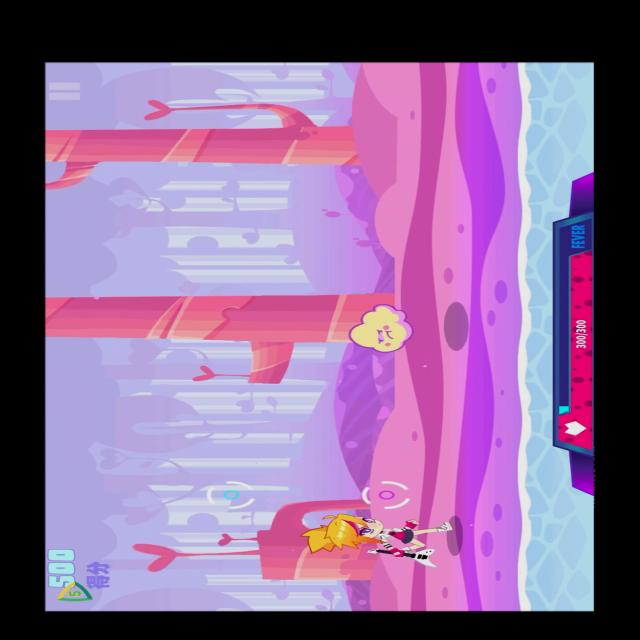Ground Monster - yellow Cloud: (342, 299, 422, 353)
